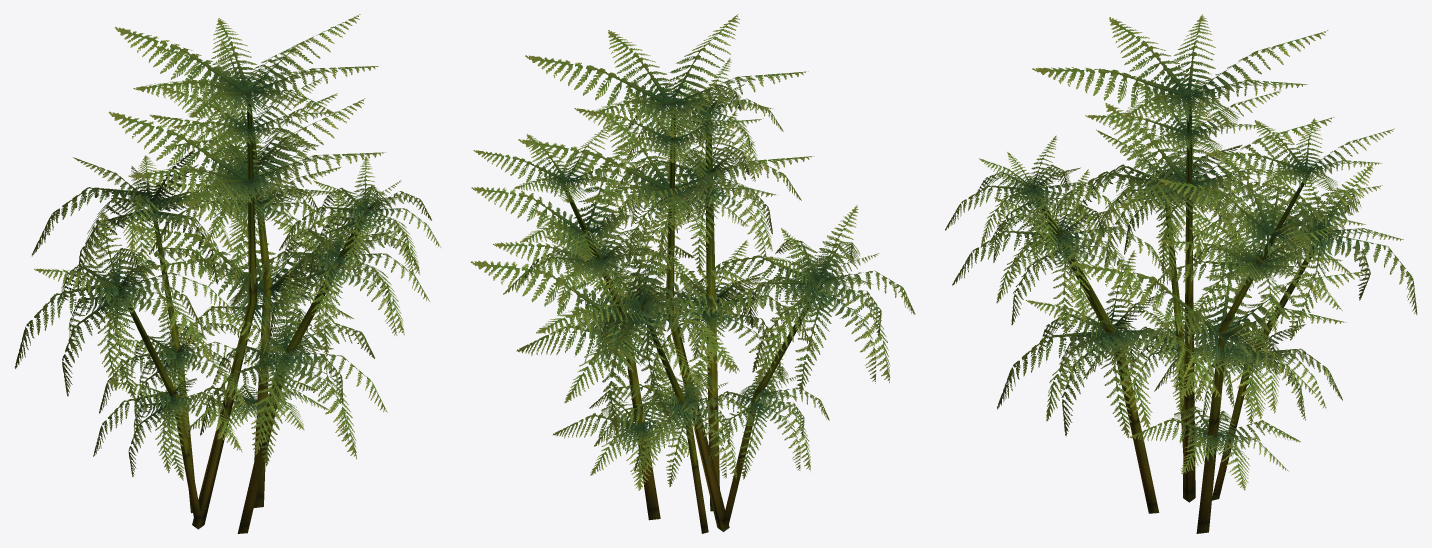
File: jiangnanguanmu_44.FBX
3 views of the same model, side by side, from view 1: azimuth 30°, elevation 25°; view 2: azimuth 150°, elevation 25°; view 3: azimuth 270°, elevation 25° (orthographic). The views are drawn at different scales.
Visible parts, largest first — view 1: jiangnanguanmu_44; view 2: jiangnanguanmu_44; view 3: jiangnanguanmu_44.
Boxes of the visible parts, x1,y1,x2,y2 form: jiangnanguanmu_44: (14, 14, 440, 533); jiangnanguanmu_44: (470, 14, 915, 533); jiangnanguanmu_44: (945, 14, 1417, 533).
Bounding box in the file's own units: 347 × 380 × 353.
